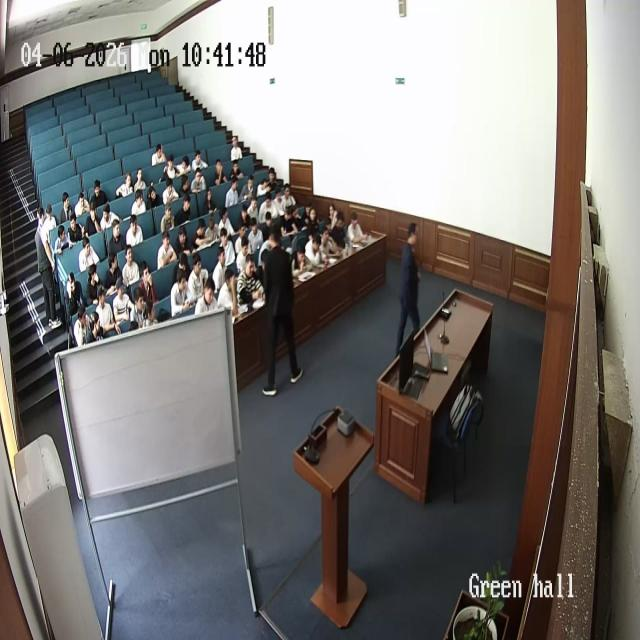person: (258, 221, 300, 393), (395, 221, 423, 363), (34, 212, 60, 326), (235, 252, 265, 313), (62, 273, 86, 329), (112, 281, 137, 333), (186, 252, 210, 305), (169, 268, 194, 318), (212, 245, 236, 295), (96, 285, 118, 339), (216, 263, 238, 317), (73, 298, 95, 346), (122, 244, 144, 289), (130, 284, 152, 328), (195, 276, 219, 316), (139, 262, 159, 310), (85, 267, 106, 312), (157, 228, 179, 270), (291, 245, 315, 281), (303, 233, 327, 269), (104, 251, 124, 294), (78, 234, 100, 273), (319, 223, 341, 261), (235, 228, 253, 274), (347, 209, 371, 243), (258, 184, 278, 223), (218, 226, 236, 268), (174, 223, 194, 260), (108, 217, 126, 257), (329, 209, 347, 248), (194, 216, 213, 252), (224, 171, 242, 209), (67, 212, 87, 246), (43, 205, 59, 247), (245, 190, 263, 226), (84, 200, 102, 236), (206, 211, 224, 245), (126, 216, 144, 250), (90, 178, 108, 212), (99, 202, 117, 236), (279, 186, 297, 220), (178, 192, 195, 227), (55, 223, 73, 256), (60, 192, 76, 228), (162, 174, 180, 206), (190, 164, 208, 196), (74, 191, 92, 221), (131, 184, 147, 217), (160, 202, 176, 235), (304, 202, 320, 235), (325, 201, 341, 233), (212, 156, 228, 187), (202, 186, 218, 217), (116, 171, 134, 198), (146, 182, 162, 212), (163, 152, 180, 180), (190, 149, 208, 175), (230, 133, 244, 162), (151, 143, 167, 168), (134, 168, 147, 194)
